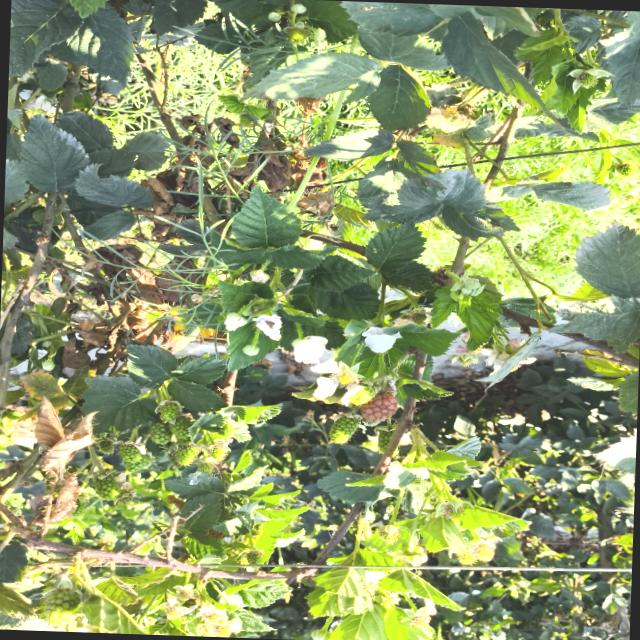boton: (249, 269, 269, 282), (242, 343, 258, 355)
flor: (311, 359, 362, 398), (292, 335, 327, 364), (362, 327, 401, 353), (253, 314, 281, 340), (223, 312, 246, 331)
naranja: (360, 392, 398, 421)
verde: (329, 415, 359, 444), (94, 476, 121, 500), (149, 420, 172, 444), (170, 417, 191, 442), (175, 445, 197, 466), (118, 445, 142, 463), (159, 402, 180, 420), (205, 445, 227, 460)
